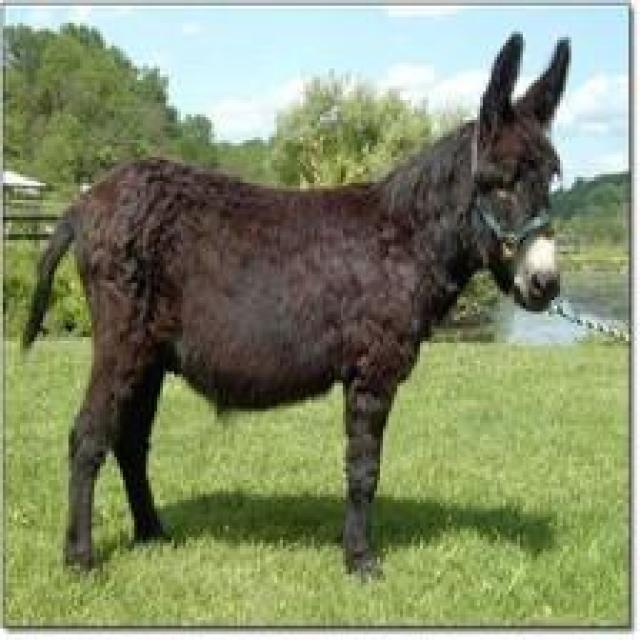Donkey: (17, 29, 572, 580)
